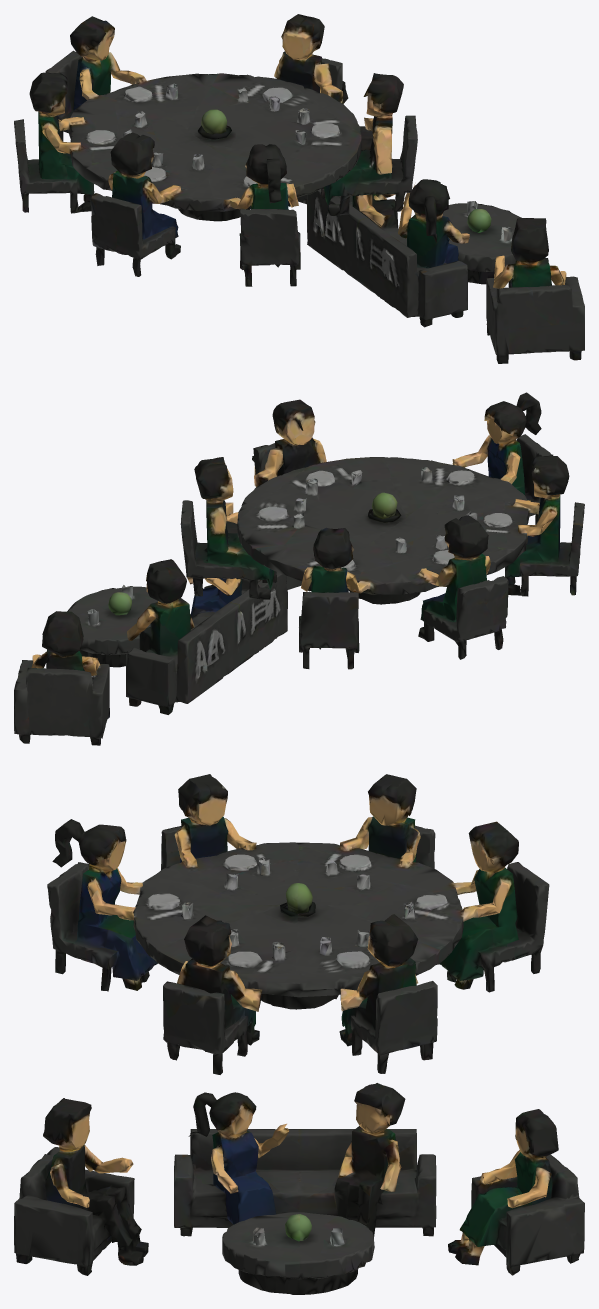
File: mesas.glb
3 views of the same model, one above another, from view 1: azimuth 30°, elevation 25°; view 2: azimuth 150°, elevation 25°; view 3: azimuth 270°, elevation 25° (orthographic). The views are drawn at different scales.
Parts seen in each view (by area): view 1: tripo_node_5a30754e-9555-4528-acc7-789c1121078c; view 2: tripo_node_5a30754e-9555-4528-acc7-789c1121078c; view 3: tripo_node_5a30754e-9555-4528-acc7-789c1121078c.
Boxes of the visible parts, x1=… form: tripo_node_5a30754e-9555-4528-acc7-789c1121078c: x1=14, y1=14, x2=584, y2=363; tripo_node_5a30754e-9555-4528-acc7-789c1121078c: x1=14, y1=392, x2=584, y2=745; tripo_node_5a30754e-9555-4528-acc7-789c1121078c: x1=14, y1=774, x2=584, y2=1294.
Size of the model in its own units: 0.9987 by 0.5107 by 0.9285.
Materials: 1 (1 with a texture image).
